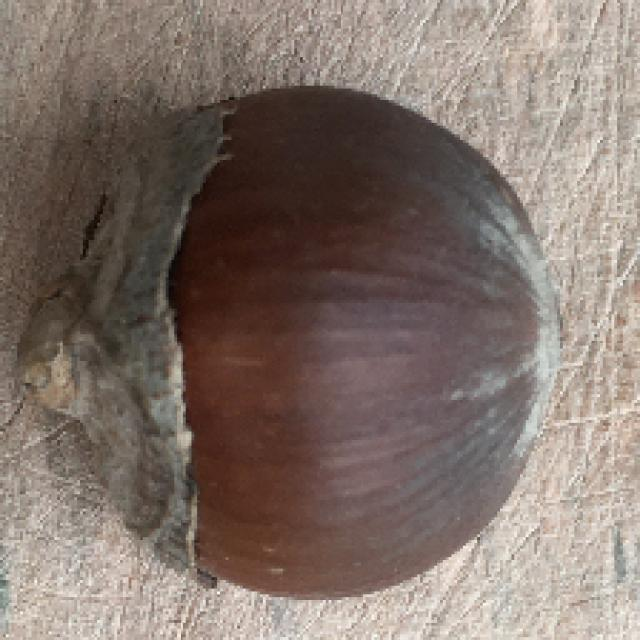damagedHazelnut: (16, 86, 568, 598)
